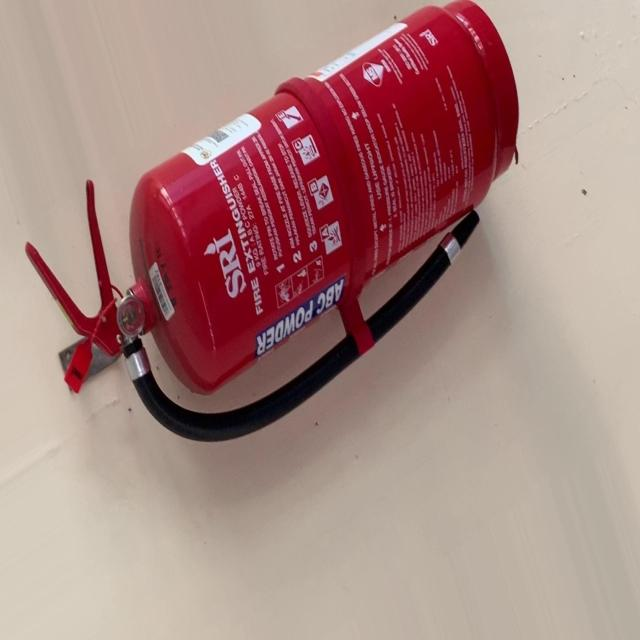fire_extinguisher: (21, 0, 528, 452)
